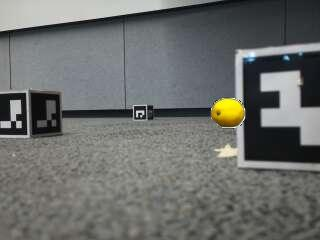lemon: (212, 99, 244, 126)
